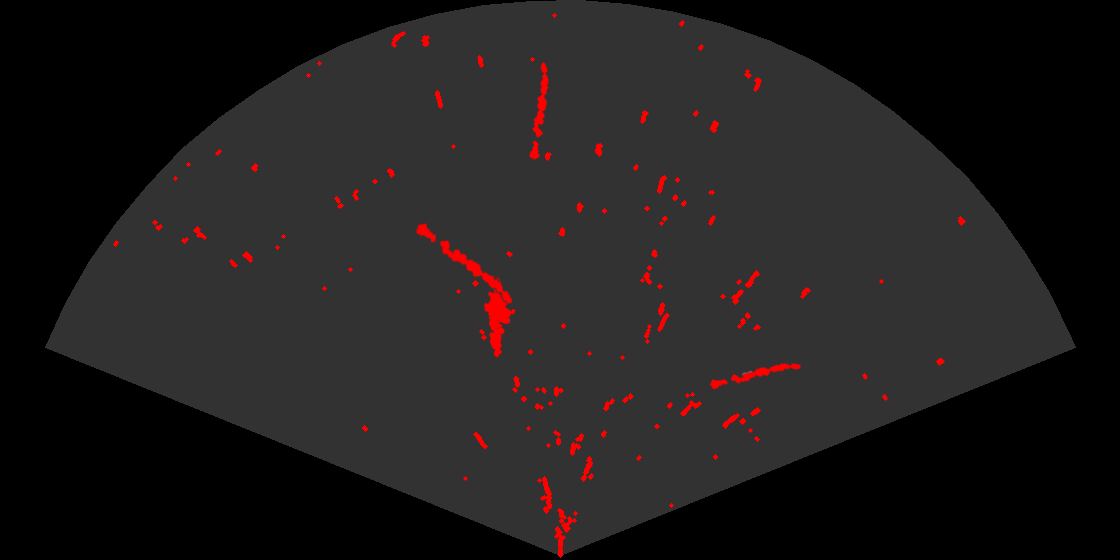chain: (414, 221, 514, 305), (707, 361, 803, 391), (528, 60, 550, 162)
frogman: (482, 281, 517, 359)
